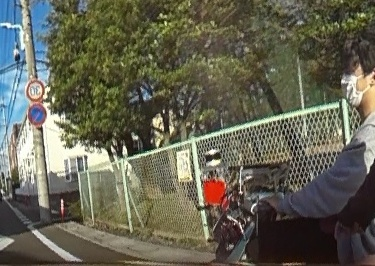person: (267, 34, 375, 266)
